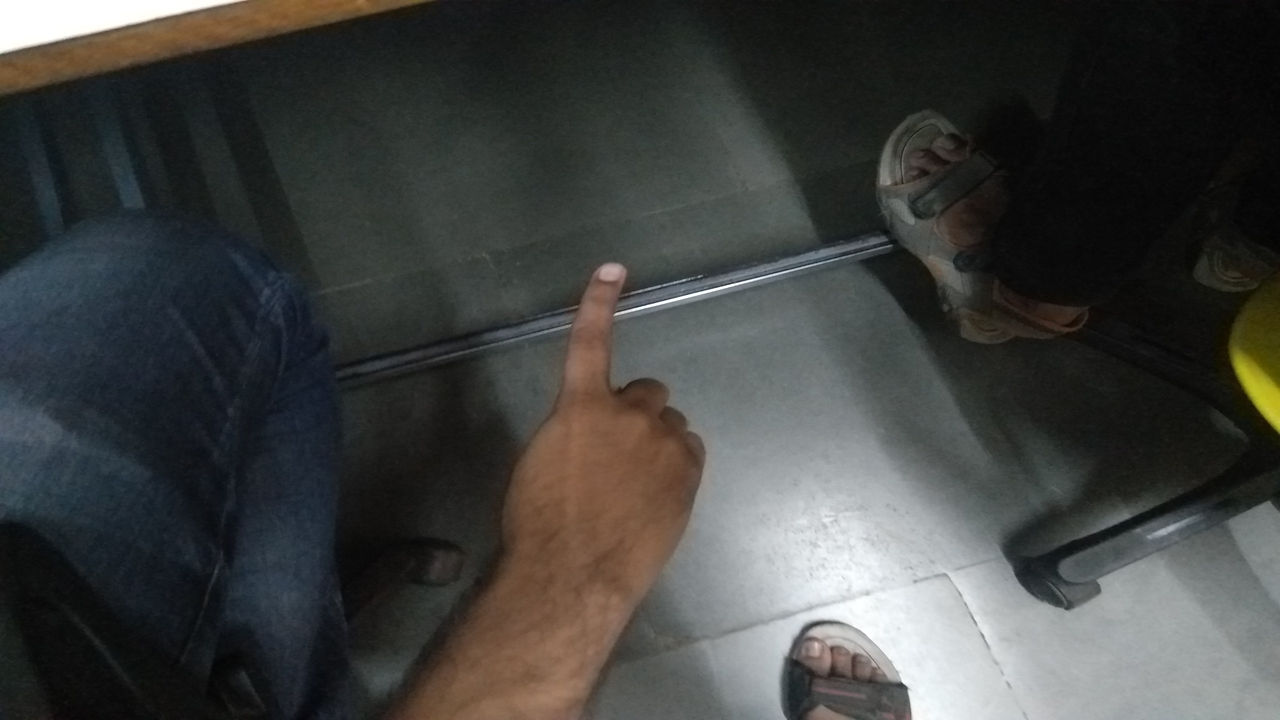fingertip: (580, 250, 636, 298)
